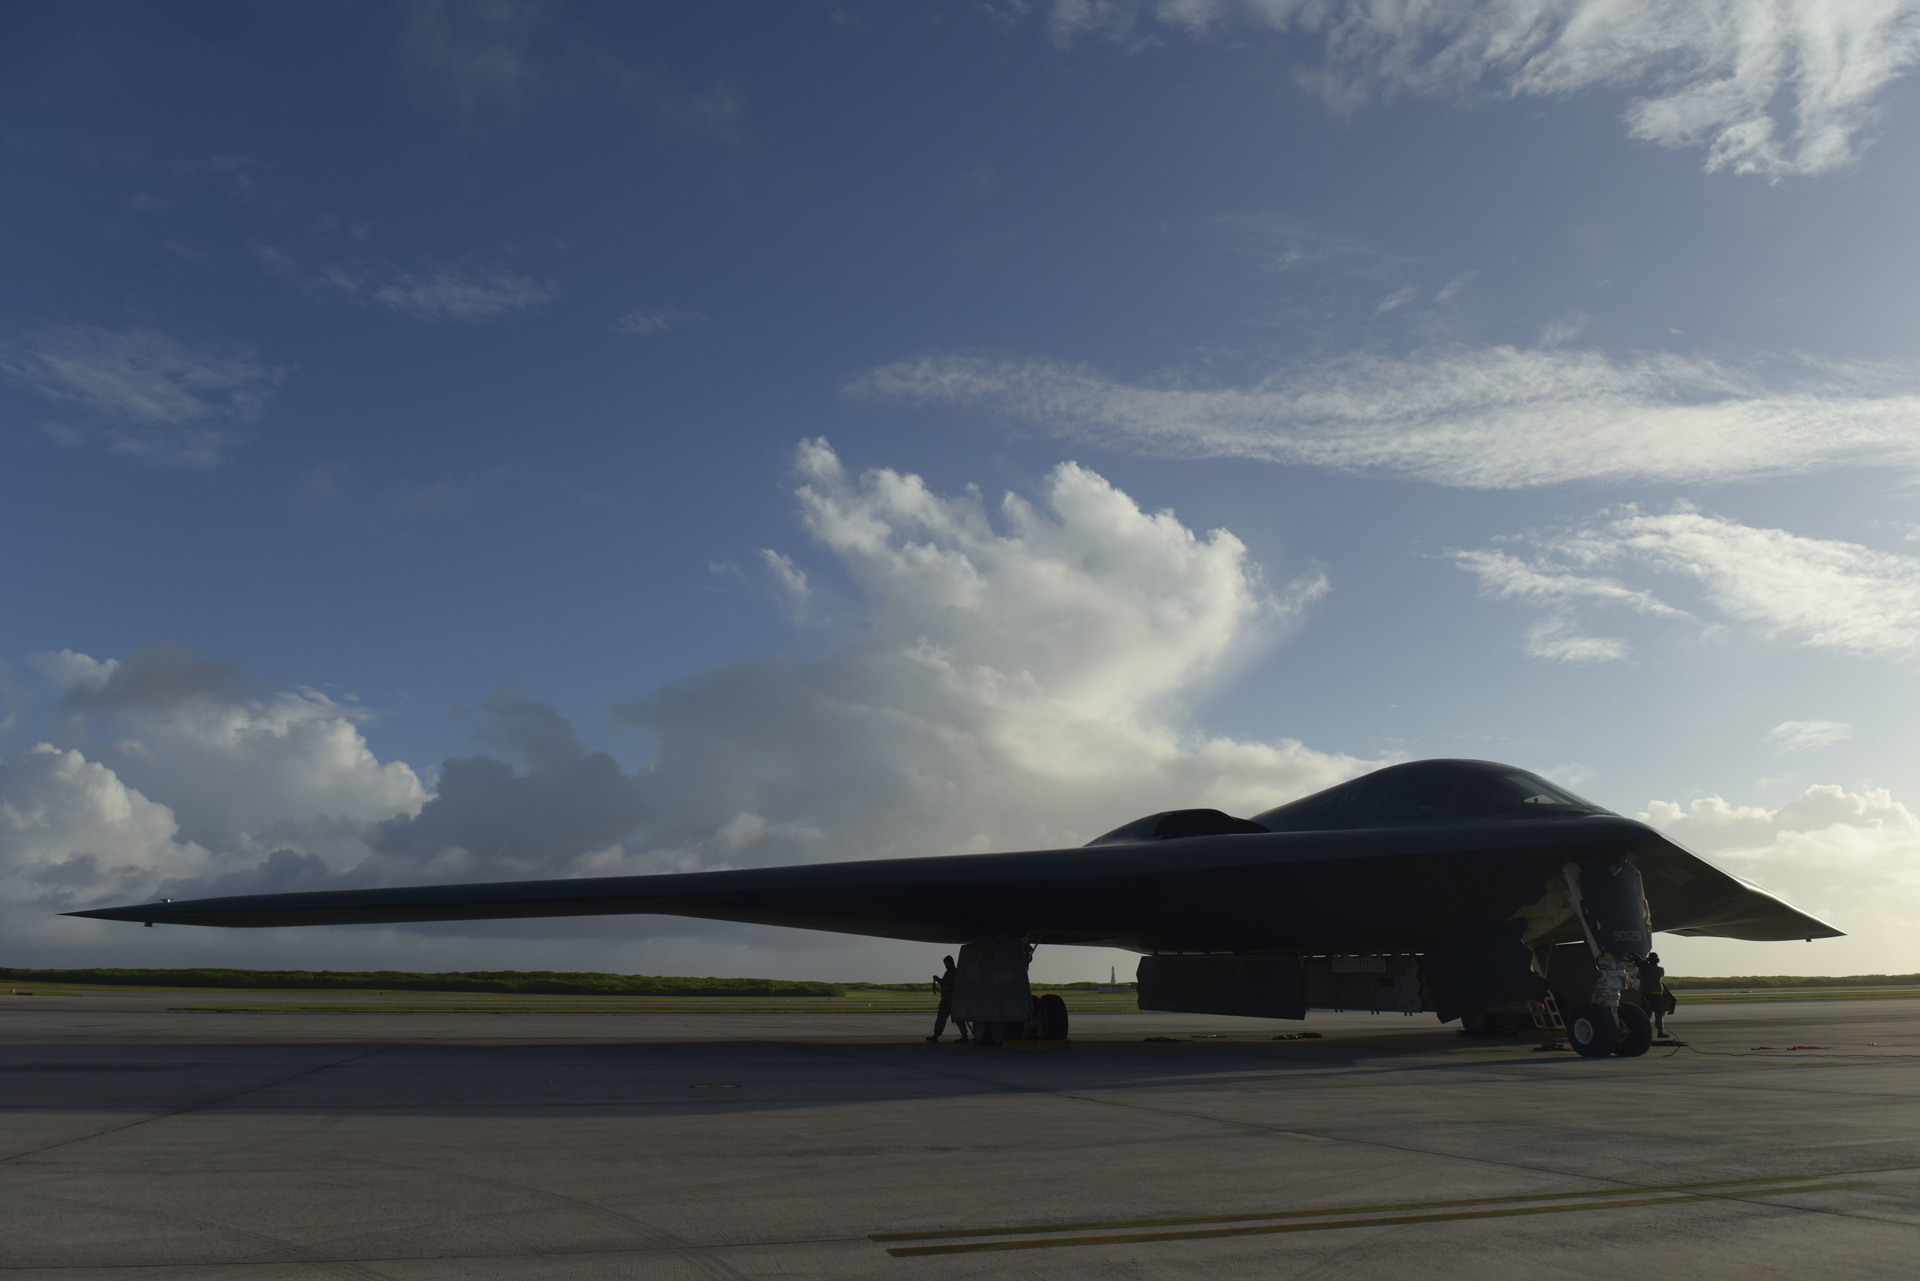B2: (54, 758, 1849, 1058)
